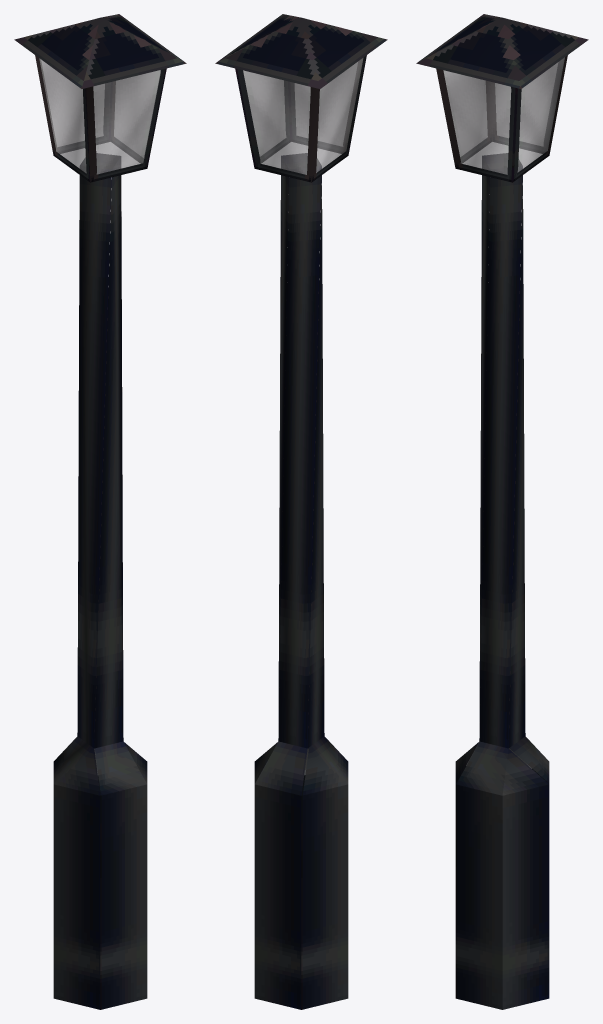
Rendered from Environment - Vegetation - Street Lamp 03 - PEStrtLamp.glb.
3 views of the same model, side by side, from view 1: azimuth 30°, elevation 25°; view 2: azimuth 150°, elevation 25°; view 3: azimuth 330°, elevation 25° (orthographic).
Visible parts, largest first — view 1: PESTRTLAMP; view 2: PESTRTLAMP; view 3: PESTRTLAMP.
Part boxes in pixels (bbox=[...]): PESTRTLAMP: bbox=[14, 14, 186, 1009]; PESTRTLAMP: bbox=[215, 14, 387, 1009]; PESTRTLAMP: bbox=[416, 14, 588, 1009].
Bounding box in the file's own units: 2.56 × 22.52 × 2.85.
1 material, 1 textured.
